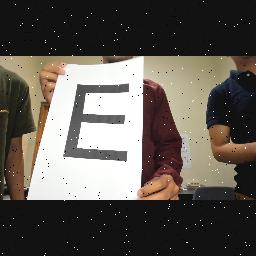e: (60, 80, 134, 166)
